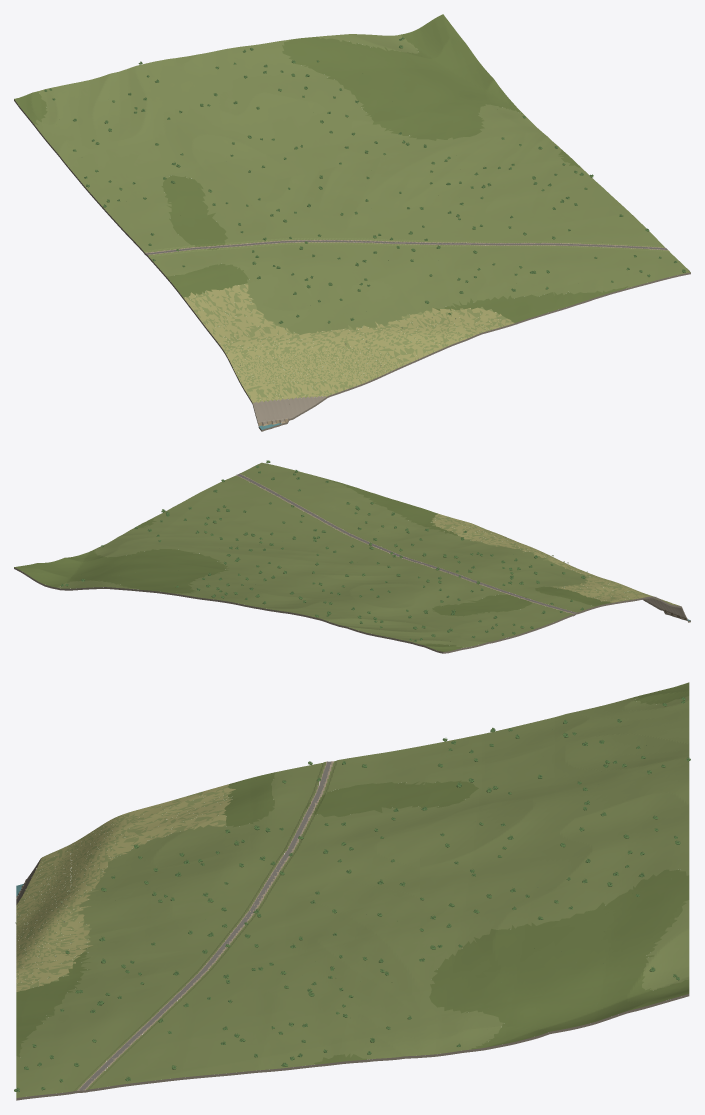
Rendered from parca_+4_-9-yakin.glb.
3 views of the same model, one above another, from view 1: azimuth 30°, elevation 25°; view 2: azimuth 150°, elevation 25°; view 3: azimuth 270°, elevation 25° (orthographic). The views are drawn at different scales.
Parts seen in each view (by area): view 1: parca_+4_-9_arazi, parca_+4_-9_bitkiler, parca_+4_-9_yollar; view 2: parca_+4_-9_arazi, parca_+4_-9_bitkiler, parca_+4_-9_yollar; view 3: parca_+4_-9_arazi, parca_+4_-9_bitkiler, parca_+4_-9_yollar.
Boxes of the visible parts, bbox=[...] form: parca_+4_-9_arazi: bbox=[14, 14, 690, 431]; parca_+4_-9_bitkiler: bbox=[44, 37, 685, 381]; parca_+4_-9_yollar: bbox=[146, 240, 667, 254]; parca_+4_-9_arazi: bbox=[14, 462, 690, 653]; parca_+4_-9_bitkiler: bbox=[61, 460, 587, 641]; parca_+4_-9_yollar: bbox=[236, 474, 575, 613]; parca_+4_-9_arazi: bbox=[16, 682, 689, 1100]; parca_+4_-9_bitkiler: bbox=[14, 697, 690, 1091]; parca_+4_-9_yollar: bbox=[79, 761, 331, 1090].
Bounding box in the file's own units: 1005 × 352 × 1006.
